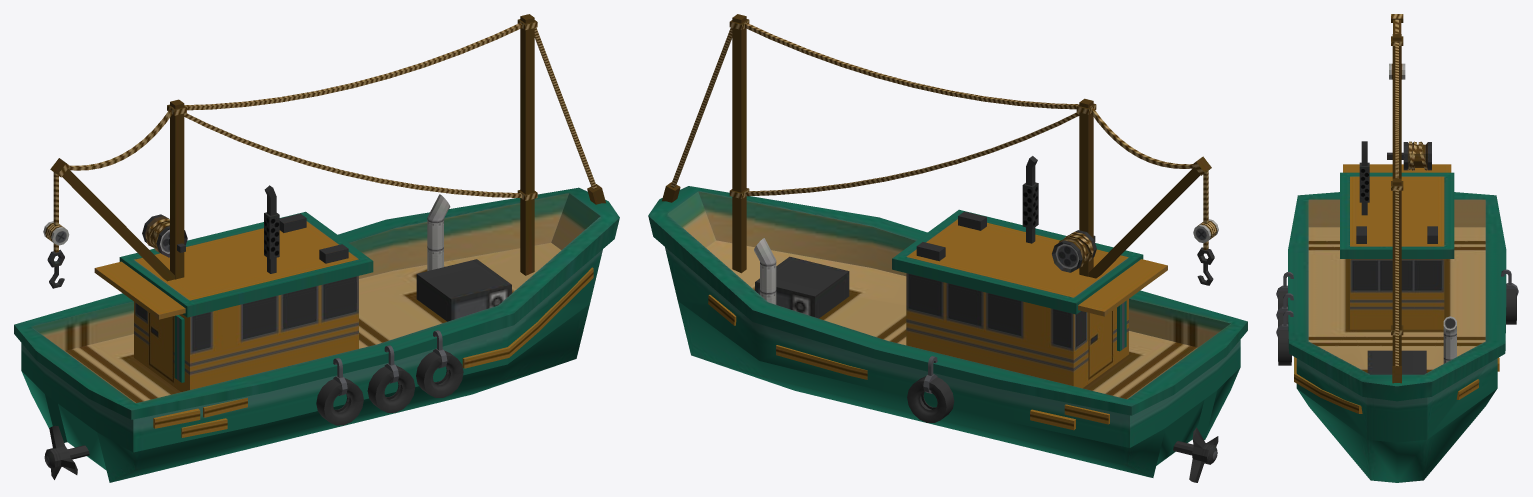
The model's file is boat_fishing_green.glb.
3 views of the same model, side by side, from view 1: azimuth 30°, elevation 25°; view 2: azimuth 150°, elevation 25°; view 3: azimuth 270°, elevation 25° (orthographic). The views are drawn at different scales.
Visible parts, largest first — view 1: Boat; view 2: Boat; view 3: Boat.
Boxes of the visible parts, left/top/right/bottom form: Boat: left=14, top=14, right=619, bottom=482; Boat: left=648, top=14, right=1247, bottom=482; Boat: left=1276, top=14, right=1518, bottom=482.
Bounding box in the file's own units: 14 × 8.41 × 6.18.
1 material, 1 textured.
